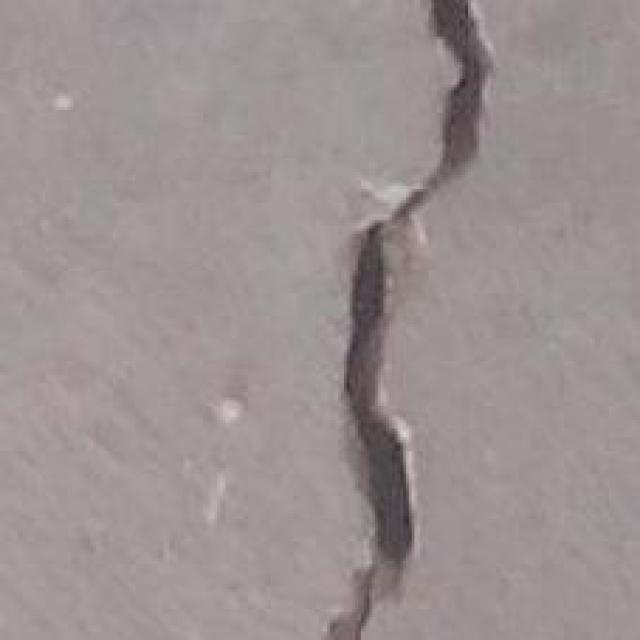Longitudinal: (321, 0, 508, 640)
